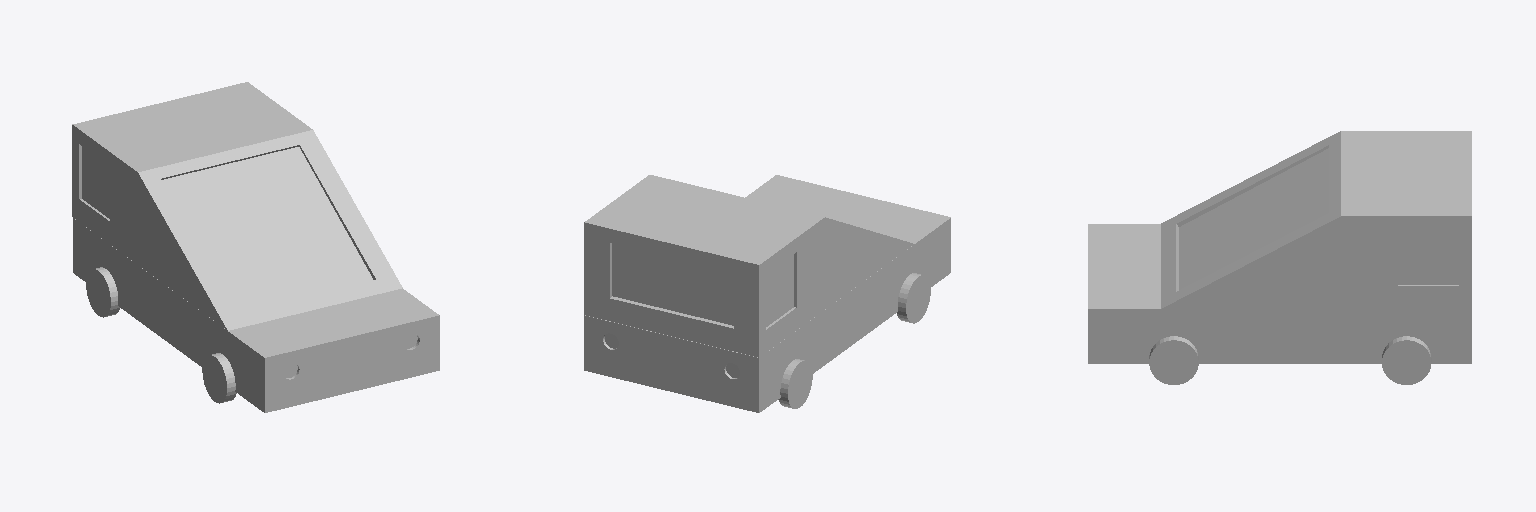
The model's file is samochod.obj.
3 renders of one model, left to right at view 1: azimuth 30°, elevation 25°; view 2: azimuth 150°, elevation 25°; view 3: azimuth 270°, elevation 25°, orthographic.
Visible parts, largest first — view 1: Walec; view 2: Walec; view 3: Walec.
Boxes of the visible parts, <box> form: Walec: <box>72,82,439,412</box>; Walec: <box>584,175,950,412</box>; Walec: <box>1088,131,1471,384</box>.
Bounding box in the file's own units: 7.25 × 5.96 × 12.59.